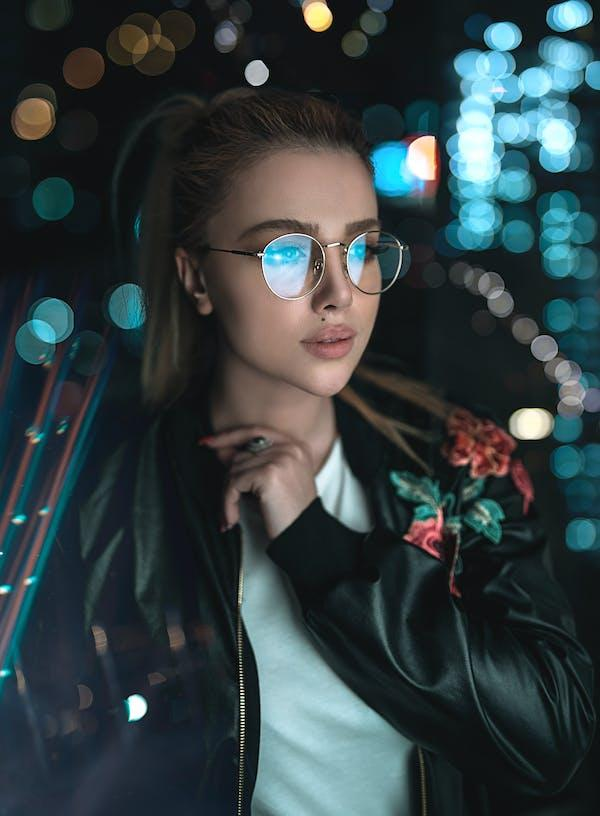eyeglasses: (242, 214, 422, 306)
